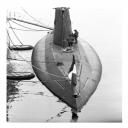submarine: (31, 6, 104, 115)
